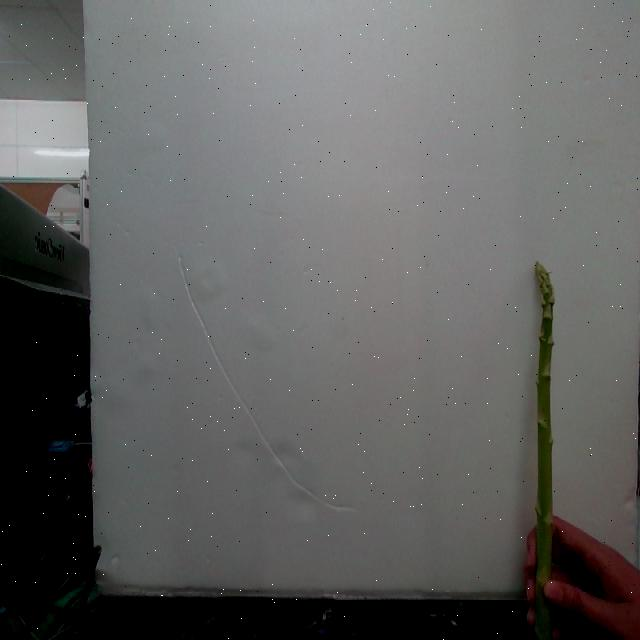aspargus: (533, 266, 557, 640)
